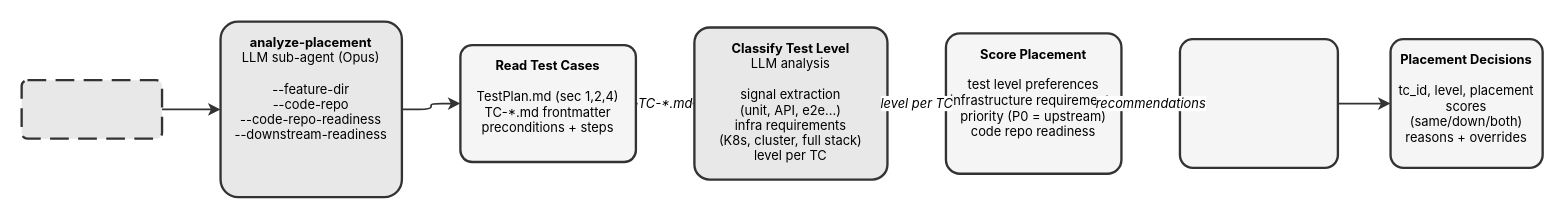
The diagram is 1563 pixels wide and 218 high, and some of its shapes have lost their labels. The box of each missing label's shape, as (x1, y1, x2, y2) in pixels:
/case-implement (caller): (20, 78, 163, 139)
User Confirmation placement summary accept all or review per-TC overrides: (1178, 37, 1338, 168)
